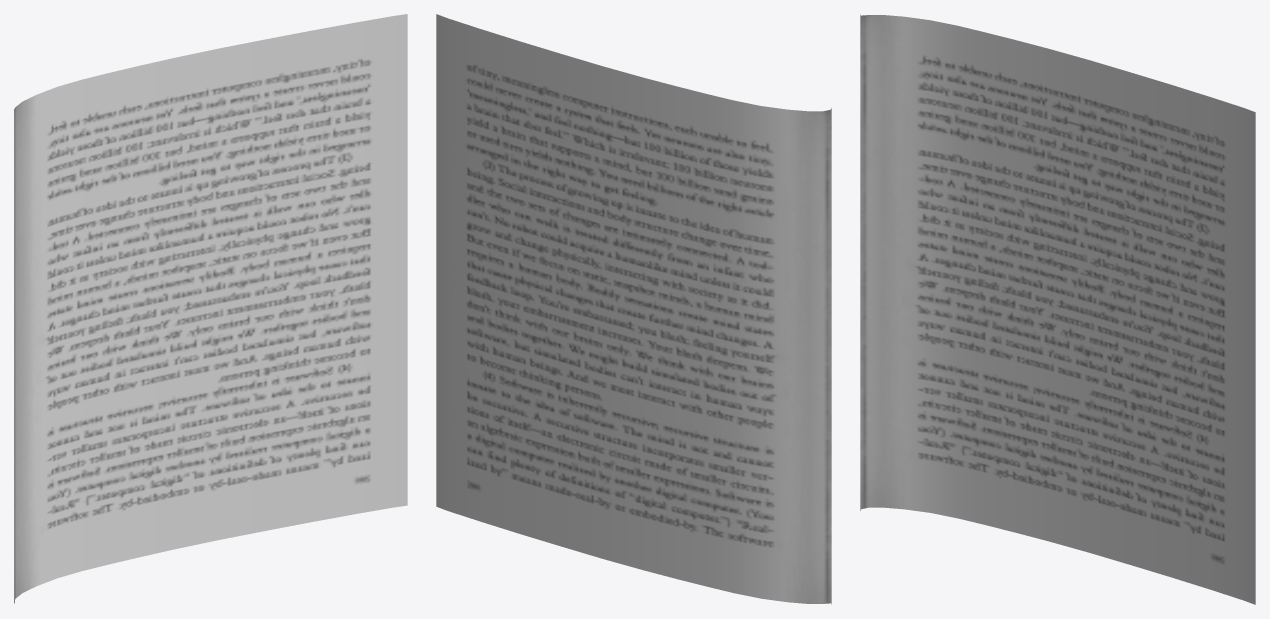
File: MeshBookFront_28_1_GeomSubset_2.obj
3 renders of one model, left to right at view 1: azimuth 30°, elevation 25°; view 2: azimuth 150°, elevation 25°; view 3: azimuth 330°, elevation 25°, orthographic.
Parts seen in each view (by area): view 1: MeshBookFront_28_1_GeomSubset_2; view 2: MeshBookFront_28_1_GeomSubset_2; view 3: MeshBookFront_28_1_GeomSubset_2.
Boxes of the visible parts, x1,y1,x2,y2 form: MeshBookFront_28_1_GeomSubset_2: (14, 14, 407, 603); MeshBookFront_28_1_GeomSubset_2: (436, 14, 831, 604); MeshBookFront_28_1_GeomSubset_2: (860, 14, 1255, 604).
Bounding box in the file's own units: 0.2122 × 0.2561 × 0.0142.
Materials: 1 (1 with a texture image).
